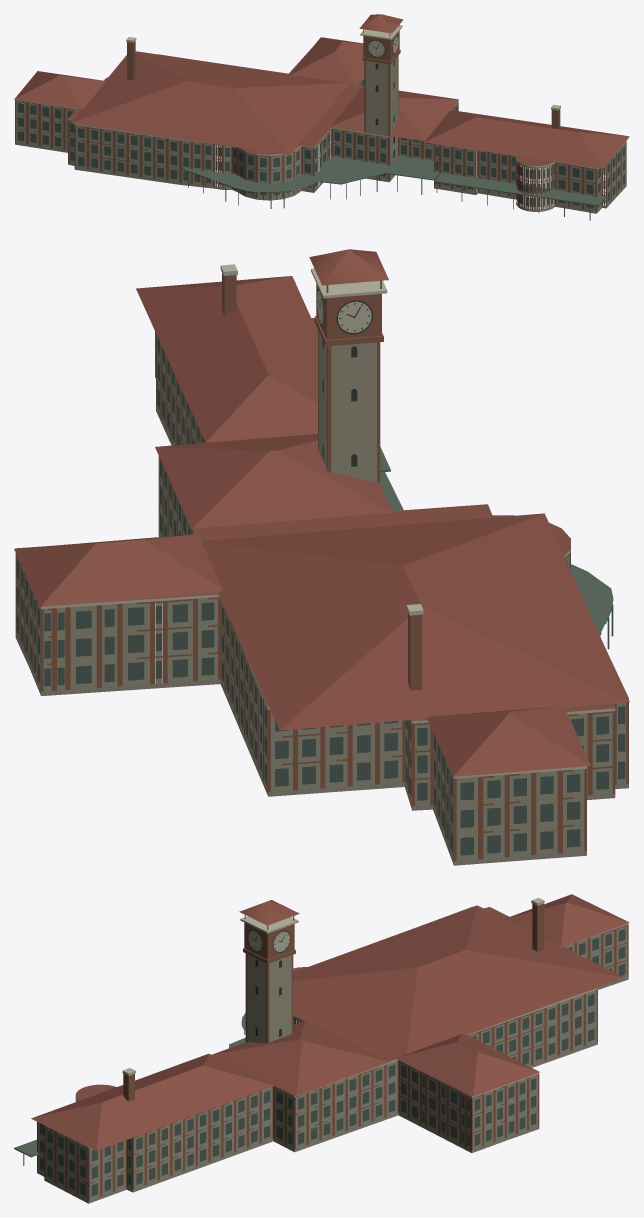
The model's file is portland-union-station-near.glb.
3 renders of one model, top to bottom at view 1: azimuth 30°, elevation 25°; view 2: azimuth 150°, elevation 25°; view 3: azimuth 270°, elevation 25°, orthographic. The views are drawn at different scales.
Visible parts, largest first — view 1: portland-union-station-0-roof, portland-union-station-0-stone, portland-union-station-0-brick, portland-union-station-0-glass, portland-union-station-0-metal, portland-union-station-0-trim, portland-union-station-0-base; view 2: portland-union-station-0-roof, portland-union-station-0-stone, portland-union-station-0-brick, portland-union-station-0-glass, portland-union-station-0-trim, portland-union-station-0-base, portland-union-station-0-metal; view 3: portland-union-station-0-roof, portland-union-station-0-stone, portland-union-station-0-glass, portland-union-station-0-brick, portland-union-station-0-base, portland-union-station-0-trim, portland-union-station-0-metal.
Boxes of the visible parts, x1=… form: portland-union-station-0-roof: x1=14, y1=14, x2=629, y2=168; portland-union-station-0-stone: x1=16, y1=56, x2=626, y2=211; portland-union-station-0-brick: x1=15, y1=31, x2=626, y2=211; portland-union-station-0-glass: x1=18, y1=79, x2=625, y2=208; portland-union-station-0-metal: x1=180, y1=25, x2=605, y2=220; portland-union-station-0-trim: x1=15, y1=25, x2=626, y2=169; portland-union-station-0-base: x1=15, y1=142, x2=626, y2=213; portland-union-station-0-roof: x1=14, y1=249, x2=629, y2=776; portland-union-station-0-stone: x1=16, y1=331, x2=626, y2=860; portland-union-station-0-brick: x1=15, y1=273, x2=628, y2=861; portland-union-station-0-glass: x1=16, y1=337, x2=625, y2=855; portland-union-station-0-trim: x1=40, y1=264, x2=628, y2=778; portland-union-station-0-base: x1=15, y1=373, x2=628, y2=865; portland-union-station-0-metal: x1=326, y1=280, x2=613, y2=649; portland-union-station-0-roof: x1=31, y1=894, x2=629, y2=1150; portland-union-station-0-stone: x1=38, y1=926, x2=627, y2=1200; portland-union-station-0-glass: x1=40, y1=929, x2=625, y2=1196; portland-union-station-0-brick: x1=37, y1=903, x2=628, y2=1200; portland-union-station-0-base: x1=37, y1=977, x2=628, y2=1203; portland-union-station-0-trim: x1=46, y1=897, x2=628, y2=1148; portland-union-station-0-metal: x1=14, y1=915, x2=294, y2=1165.
Size of the model in its own units: 126 by 45.72 by 128.
